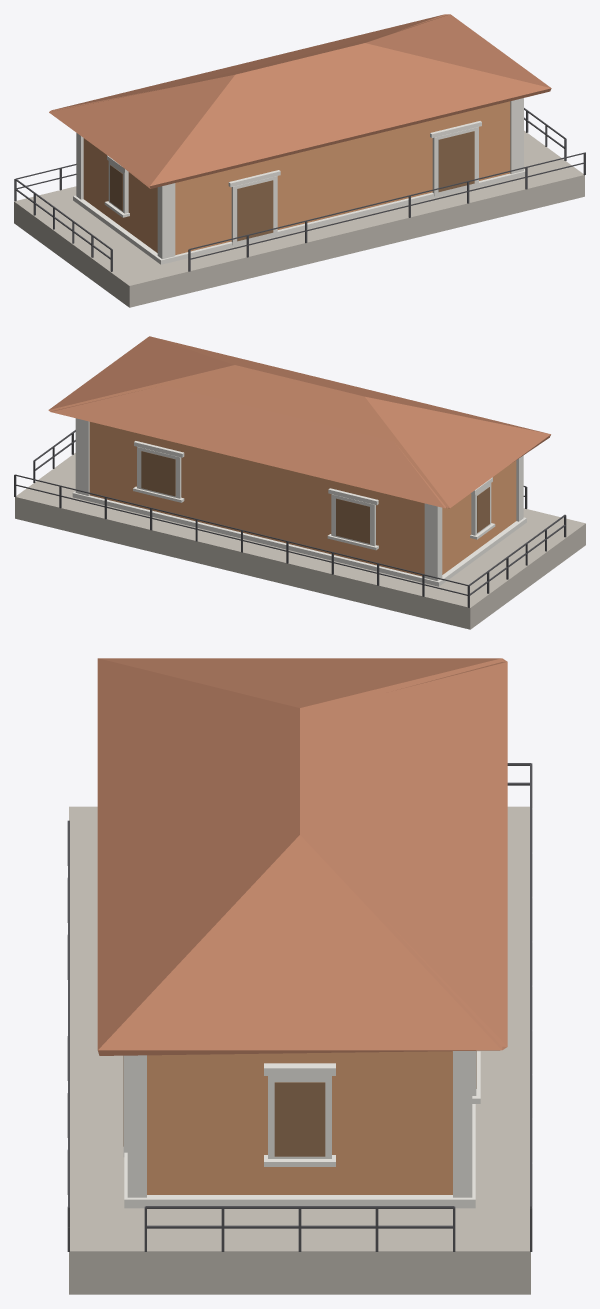
Rendered from Personeria.fbx.
The picture shows the model from 3 angles, top to bottom: view 1: azimuth 30°, elevation 25°; view 2: azimuth 150°, elevation 25°; view 3: azimuth 270°, elevation 25°; orthographic projection. The views are drawn at different scales.
Visible parts, largest first — view 1: Cubierta, Terraza_Piedra, Muros, Zocalo, Frente_puerta_1.6_hoja, Frente_puerta_1.6_hoja.001, Pilastra_-1_-1, Pilastra_1_-1, Frente_puerta_1.6_marco.001, Frente_puerta_1.6_marco, Bar_frente_L_riel_1.0, Bar_frente_L_riel_0.55 (+3 smaller); view 2: Cubierta, Muros, Terraza_Piedra, Zocalo, Pilastra_-1_1, Atras_ventana_3.0_hoja, Atras_ventana_-3.0_hoja, Pilastra_1_1, Bar_atras_riel_1.0, Bar_atras_riel_0.55, Atras_ventana_3.0_marco, Atras_ventana_-3.0_marco (+3 smaller); view 3: Cubierta, Terraza_Piedra, Muros, Zocalo, Extremo_1_hoja, Pilastra_1_1, Pilastra_1_-1, Extremo_1_marco, Bar_der_riel_0.55, Extremo_1_dintel, Bar_der_riel_1.0, Bar_atras_riel_1.0.
Boxes of the visible parts, x1,y1,x2,y2 form: Cubierta: (49, 14, 551, 188); Terraza_Piedra: (14, 130, 584, 307); Muros: (83, 101, 510, 254); Zocalo: (73, 169, 525, 264); Frente_puerta_1.6_hoja: (438, 131, 474, 191); Frente_puerta_1.6_hoja.001: (237, 180, 273, 241); Pilastra_-1_-1: (157, 183, 175, 259); Pilastra_1_-1: (510, 98, 523, 173); Frente_puerta_1.6_marco.001: (231, 176, 277, 245); Frente_puerta_1.6_marco: (432, 127, 478, 196); Bar_frente_L_riel_1.0: (189, 152, 585, 249); Bar_frente_L_riel_0.55: (190, 162, 584, 259); Cubierta: (48, 336, 550, 508); Muros: (89, 422, 516, 576); Terraza_Piedra: (15, 453, 585, 629); Zocalo: (72, 491, 526, 586); Pilastra_-1_1: (424, 503, 442, 580); Atras_ventana_3.0_hoja: (141, 451, 175, 496); Atras_ventana_-3.0_hoja: (336, 498, 369, 543); Pilastra_1_1: (75, 418, 89, 495); Bar_atras_riel_1.0: (15, 474, 468, 585); Bar_atras_riel_0.55: (15, 484, 467, 595); Atras_ventana_3.0_marco: (137, 447, 181, 498); Atras_ventana_-3.0_marco: (331, 494, 375, 546); Cubierta: (97, 658, 507, 1055); Terraza_Piedra: (69, 806, 530, 1294); Muros: (147, 1051, 452, 1194); Zocalo: (124, 1104, 475, 1208); Extremo_1_hoja: (274, 1082, 325, 1156); Pilastra_1_1: (453, 1051, 472, 1197); Pilastra_1_-1: (127, 1055, 146, 1197); Extremo_1_marco: (268, 1076, 331, 1158); Bar_der_riel_0.55: (147, 1225, 452, 1228); Extremo_1_dintel: (264, 1063, 335, 1075); Bar_der_riel_1.0: (145, 1206, 454, 1208); Bar_atras_riel_1.0: (530, 763, 531, 1207).
Size of the model in its own units: 2189 by 692 by 965.
